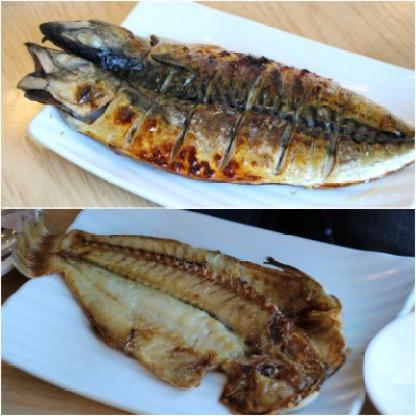Peixe: (3, 7, 416, 190), (0, 217, 357, 416)
